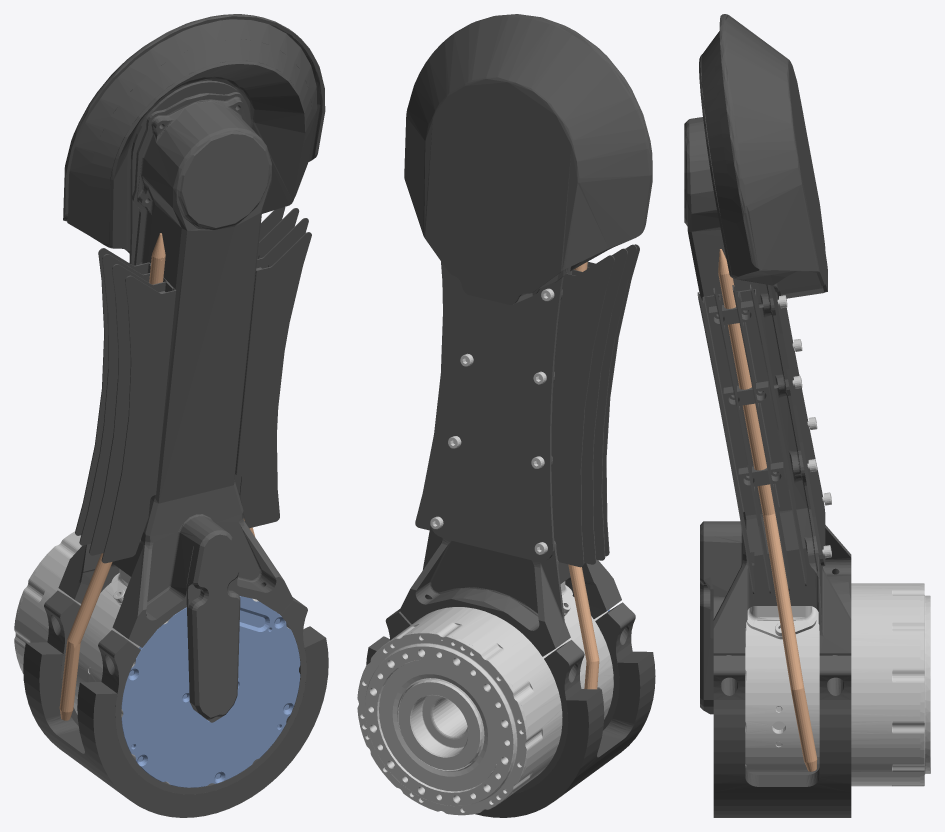
File: anymal_thigh_l.dae
The picture shows the model from 3 angles, left to right: view 1: azimuth 30°, elevation 25°; view 2: azimuth 150°, elevation 25°; view 3: azimuth 270°, elevation 25°; orthographic projection. The views are drawn at different scales.
Visible parts, largest first — view 1: _42196_00-ASM_ANYmal_thigh_left_EDI_003, _42196_00-ASM_ANYmal_thigh_left_EDI_004, _42196_00-ASM_ANYmal_thigh_left_EDI_002, _42196_00-ASM_ANYmal_thigh_left_EDI_009, _42196_00-ASM_ANYmal_thigh_left_EDI_006, _42196_00-ASM_ANYmal_thigh_left_EDI_007, _42196_00-ASM_ANYmal_thigh_left_EDI_005, _42196_00-ASM_ANYmal_thigh_left_EDI_001; view 2: _42196_00-ASM_ANYmal_thigh_left_EDI_002, _42196_00-ASM_ANYmal_thigh_left_EDI_009, _42196_00-ASM_ANYmal_thigh_left_EDI_001, _42196_00-ASM_ANYmal_thigh_left_EDI_004, _42196_00-ASM_ANYmal_thigh_left_EDI_003, _42196_00-ASM_ANYmal_thigh_left_EDI_006, _42196_00-ASM_ANYmal_thigh_left_EDI_007, _42196_00-ASM_ANYmal_thigh_left_EDI_005, _42196_00-ASM_ANYmal_thigh_left_EDI_012; view 3: _42196_00-ASM_ANYmal_thigh_left_EDI_002, _42196_00-ASM_ANYmal_thigh_left_EDI_009, _42196_00-ASM_ANYmal_thigh_left_EDI_003, _42196_00-ASM_ANYmal_thigh_left_EDI_004, _42196_00-ASM_ANYmal_thigh_left_EDI_006, _42196_00-ASM_ANYmal_thigh_left_EDI_005, _42196_00-ASM_ANYmal_thigh_left_EDI_007, _42196_00-ASM_ANYmal_thigh_left_EDI_001, _42196_00-ASM_ANYmal_thigh_left_EDI_008, _42196_00-ASM_ANYmal_thigh_left_EDI_012.
Part boxes in pixels (<box>): _42196_00-ASM_ANYmal_thigh_left_EDI_003: <box>58,92,293,722</box>; _42196_00-ASM_ANYmal_thigh_left_EDI_004: <box>75,207,311,563</box>; _42196_00-ASM_ANYmal_thigh_left_EDI_002: <box>63,14,325,253</box>; _42196_00-ASM_ANYmal_thigh_left_EDI_009: <box>14,531,300,787</box>; _42196_00-ASM_ANYmal_thigh_left_EDI_006: <box>23,626,328,817</box>; _42196_00-ASM_ANYmal_thigh_left_EDI_007: <box>44,590,307,794</box>; _42196_00-ASM_ANYmal_thigh_left_EDI_005: <box>59,233,254,720</box>; _42196_00-ASM_ANYmal_thigh_left_EDI_001: <box>129,80,250,265</box>; _42196_00-ASM_ANYmal_thigh_left_EDI_002: <box>404,14,652,304</box>; _42196_00-ASM_ANYmal_thigh_left_EDI_009: <box>357,596,613,815</box>; _42196_00-ASM_ANYmal_thigh_left_EDI_001: <box>429,276,563,561</box>; _42196_00-ASM_ANYmal_thigh_left_EDI_004: <box>415,244,639,567</box>; _42196_00-ASM_ANYmal_thigh_left_EDI_003: <box>399,289,621,656</box>; _42196_00-ASM_ANYmal_thigh_left_EDI_006: <box>366,636,655,817</box>; _42196_00-ASM_ANYmal_thigh_left_EDI_007: <box>385,602,635,793</box>; _42196_00-ASM_ANYmal_thigh_left_EDI_005: <box>568,262,599,689</box>; _42196_00-ASM_ANYmal_thigh_left_EDI_012: <box>430,288,554,554</box>; _42196_00-ASM_ANYmal_thigh_left_EDI_002: <box>699,14,827,298</box>; _42196_00-ASM_ANYmal_thigh_left_EDI_009: <box>745,583,930,786</box>; _42196_00-ASM_ANYmal_thigh_left_EDI_003: <box>684,117,851,714</box>; _42196_00-ASM_ANYmal_thigh_left_EDI_004: <box>697,284,806,593</box>; _42196_00-ASM_ANYmal_thigh_left_EDI_006: <box>713,709,851,817</box>; _42196_00-ASM_ANYmal_thigh_left_EDI_005: <box>718,249,817,771</box>; _42196_00-ASM_ANYmal_thigh_left_EDI_007: <box>713,655,851,709</box>; _42196_00-ASM_ANYmal_thigh_left_EDI_001: <box>770,285,825,566</box>; _42196_00-ASM_ANYmal_thigh_left_EDI_008: <box>746,606,816,639</box>; _42196_00-ASM_ANYmal_thigh_left_EDI_012: <box>777,295,831,558</box>.
Bounding box in the file's own units: 130 × 109 × 380.
